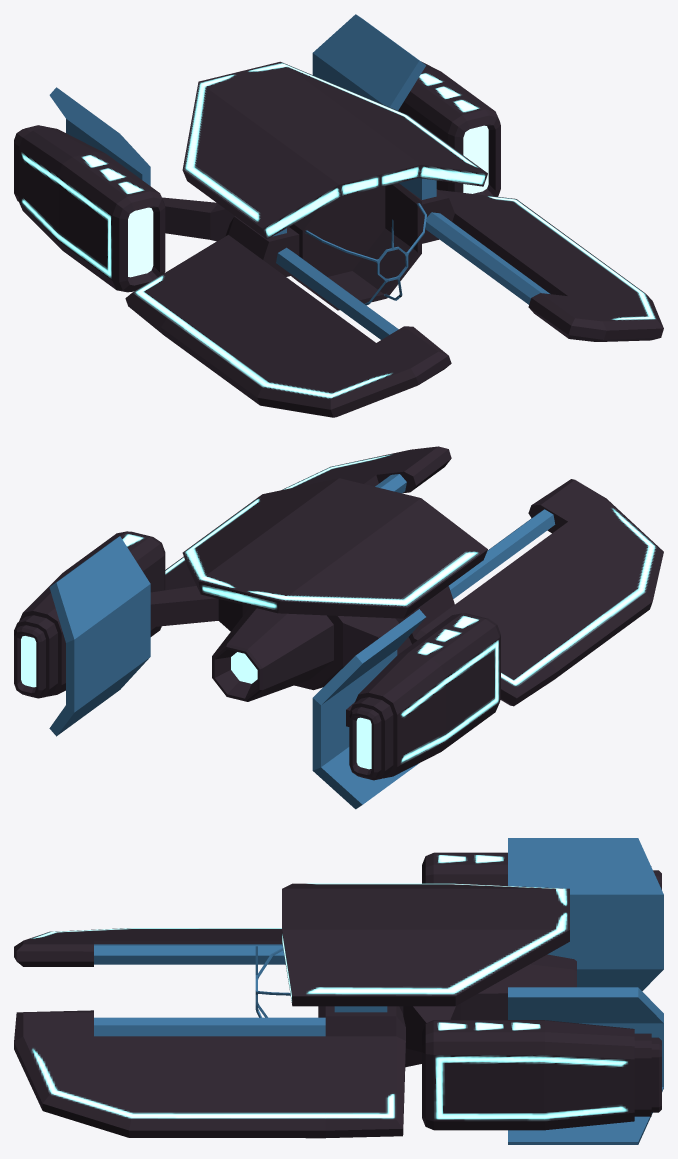
File: Cosmic Cargo Spaceship.glb
3 renders of one model, top to bottom at view 1: azimuth 30°, elevation 25°; view 2: azimuth 150°, elevation 25°; view 3: azimuth 270°, elevation 25°, orthographic. The views are drawn at different scales.
Parts seen in each view (by area): view 1: Spaceship (Scaled for HexaTower); view 2: Spaceship (Scaled for HexaTower); view 3: Spaceship (Scaled for HexaTower).
Boxes of the visible parts, left/top/right/bottom form: Spaceship (Scaled for HexaTower): left=14, top=14, right=663, bottom=417; Spaceship (Scaled for HexaTower): left=14, top=446, right=663, bottom=809; Spaceship (Scaled for HexaTower): left=14, top=838, right=663, bottom=1144.
Size of the model in its own units: 0.8576 by 0.3258 by 1.19.
Materials: 1 (1 with a texture image).
